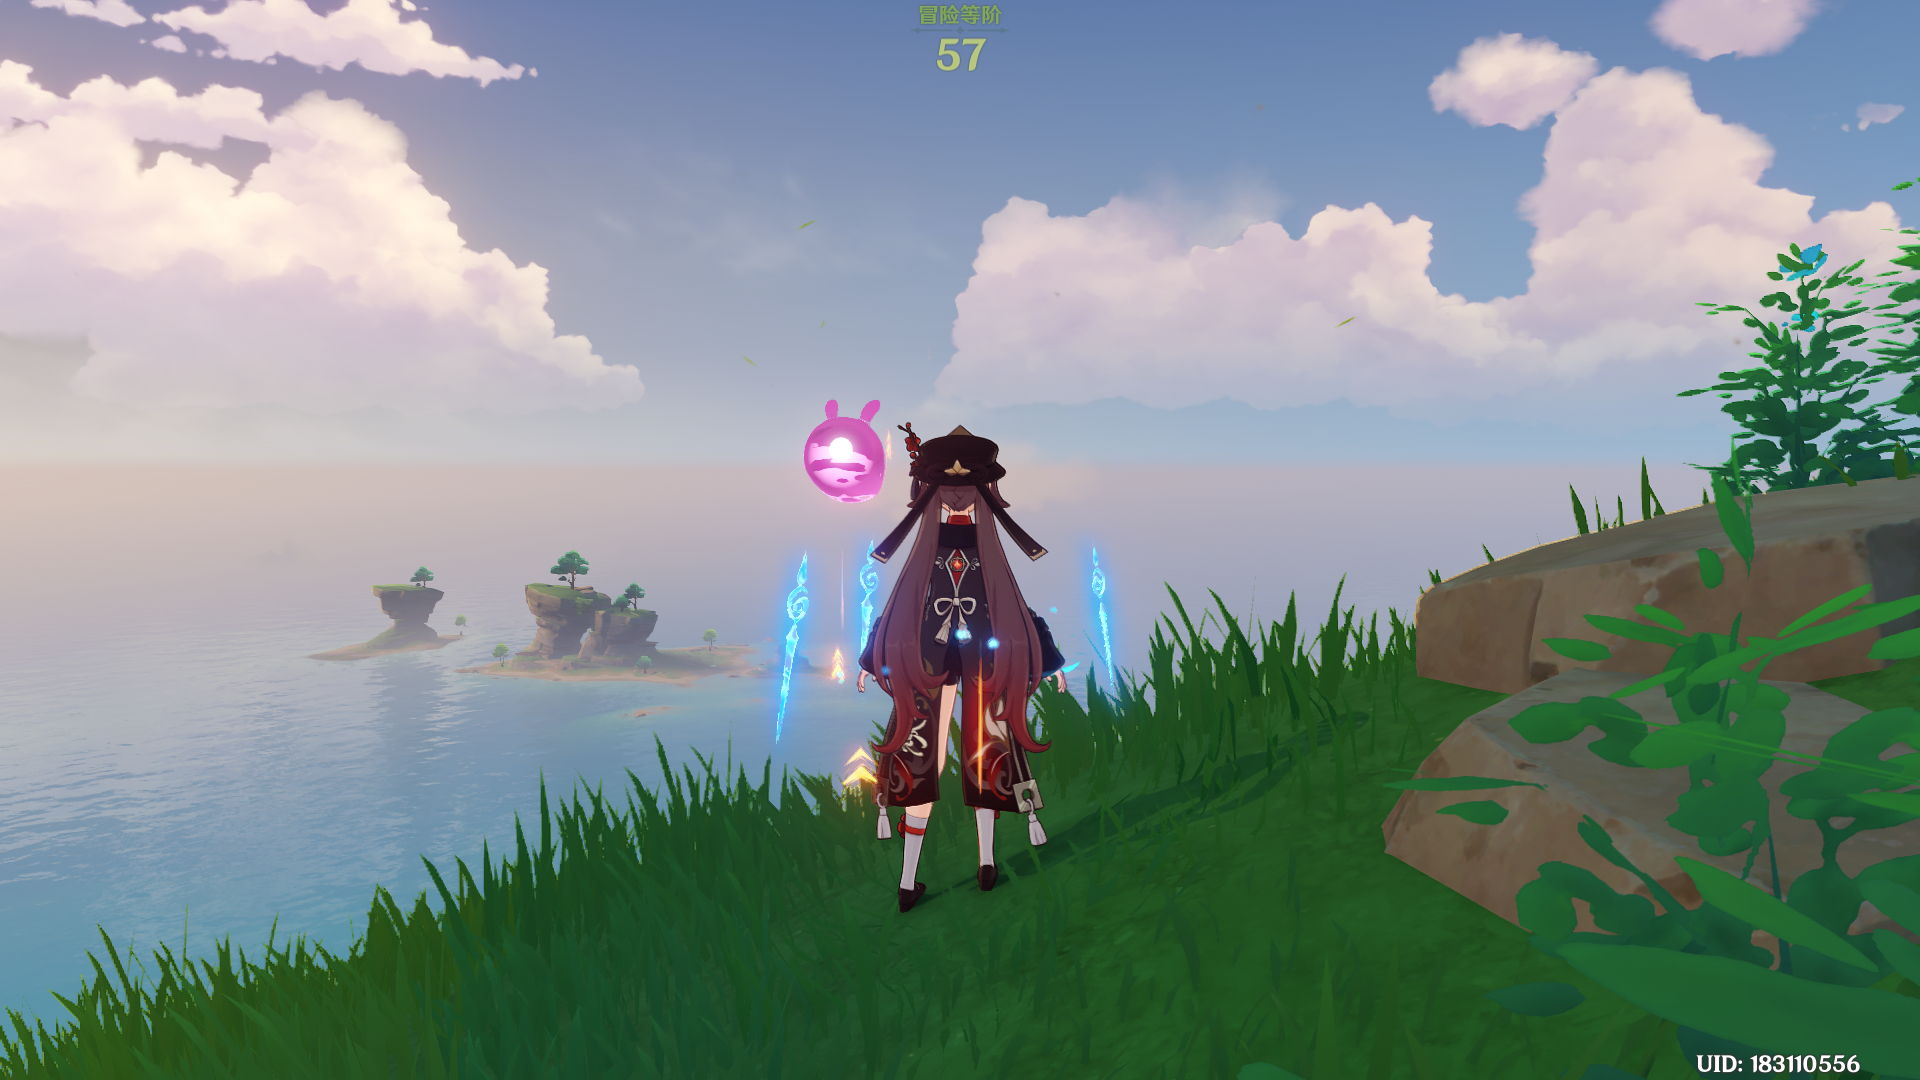character: (807, 396, 1088, 920)
